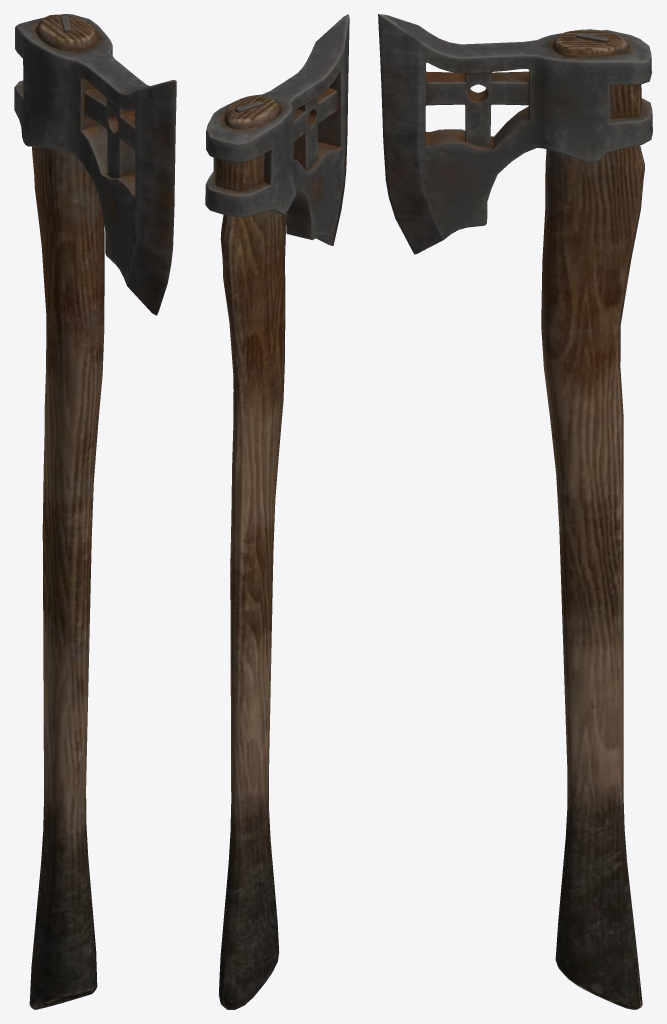
File: wooden_axe_03.31d309a3.glb
3 renders of one model, left to right at view 1: azimuth 30°, elevation 25°; view 2: azimuth 150°, elevation 25°; view 3: azimuth 270°, elevation 25°, orthographic. The views are drawn at different scales.
Visible parts, largest first — view 1: wooden_axe_03; view 2: wooden_axe_03; view 3: wooden_axe_03.
Part boxes in pixels (x1,y1,x2,y2): wooden_axe_03: (14, 14, 176, 1009); wooden_axe_03: (205, 14, 349, 1009); wooden_axe_03: (378, 14, 652, 1009).
Bounding box in the file's own units: 0.0798 × 1 × 0.2506.
1 material, 1 textured.
